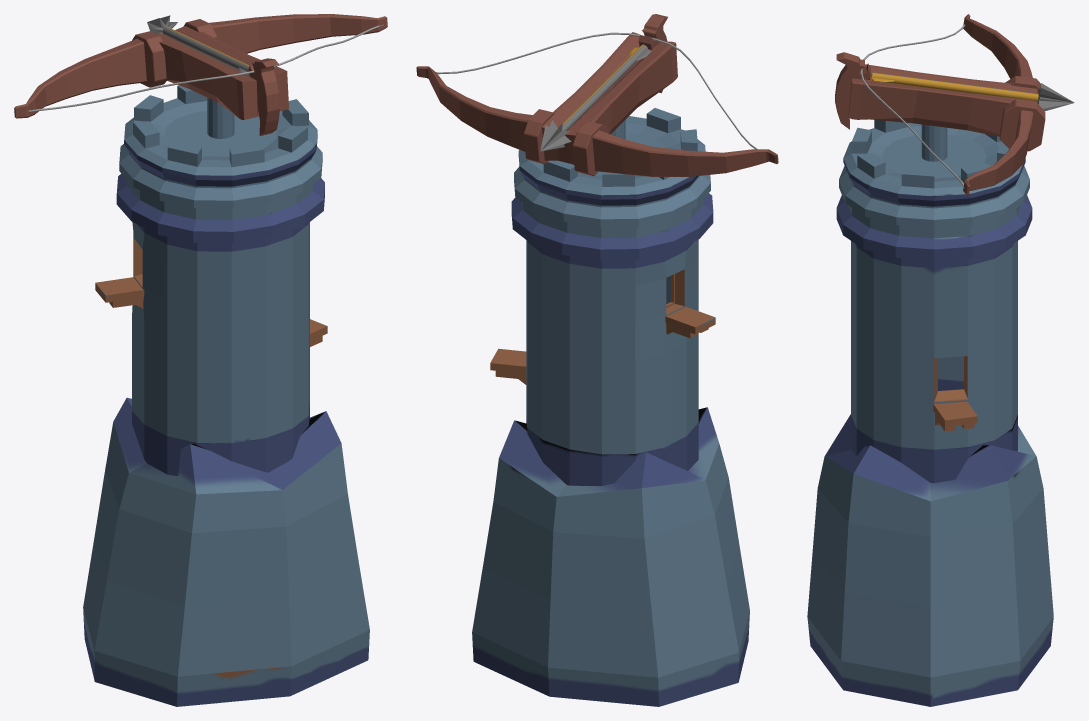
The model's file is Tower.fbx.
The picture shows the model from 3 angles, left to right: view 1: azimuth 30°, elevation 25°; view 2: azimuth 150°, elevation 25°; view 3: azimuth 270°, elevation 25°; orthographic projection. The views are drawn at different scales.
Parts seen in each view (by area): view 1: Cube.001, Cube005, cylinder001, cylinder; view 2: Cube.001, Cube005, cylinder001, cylinder; view 3: Cube.001, Cube005, cylinder001, cylinder.
Boxes of the visible parts, <box> form: Cube.001: <box>83,85,369,706</box>; Cube005: <box>14,14,387,135</box>; cylinder001: <box>147,15,249,74</box>; cylinder: <box>28,24,383,112</box>; Cube.001: <box>472,108,749,706</box>; Cube005: <box>416,14,778,176</box>; cylinder001: <box>540,44,651,151</box>; cylinder: <box>436,32,757,149</box>; Cube.001: <box>807,120,1053,706</box>; Cube005: <box>835,14,1045,195</box>; cylinder001: <box>871,72,1074,111</box>; cylinder: <box>860,24,965,188</box>.
Bounding box in the file's own units: 5.58 × 9.03 × 3.66.
